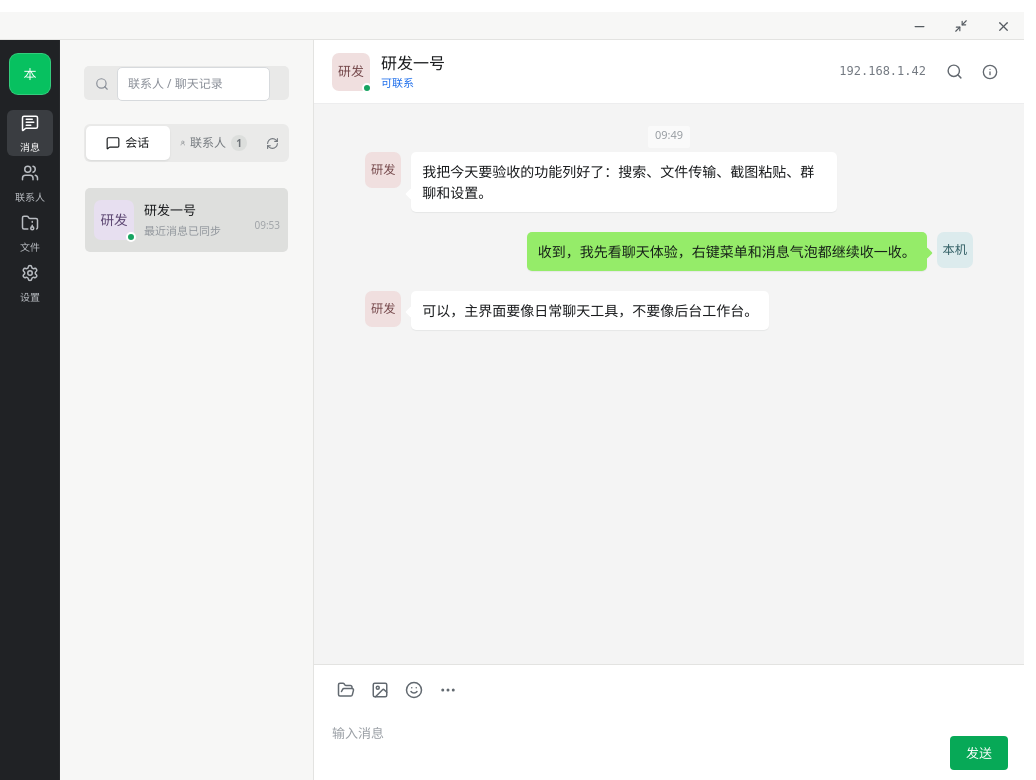
App › loads and focuses a search result outside the current message page
The width and height of the screenshot is (1036, 780).
Click the button named "搜索聊天记录" at [954, 72], box [938, 56, 970, 88]
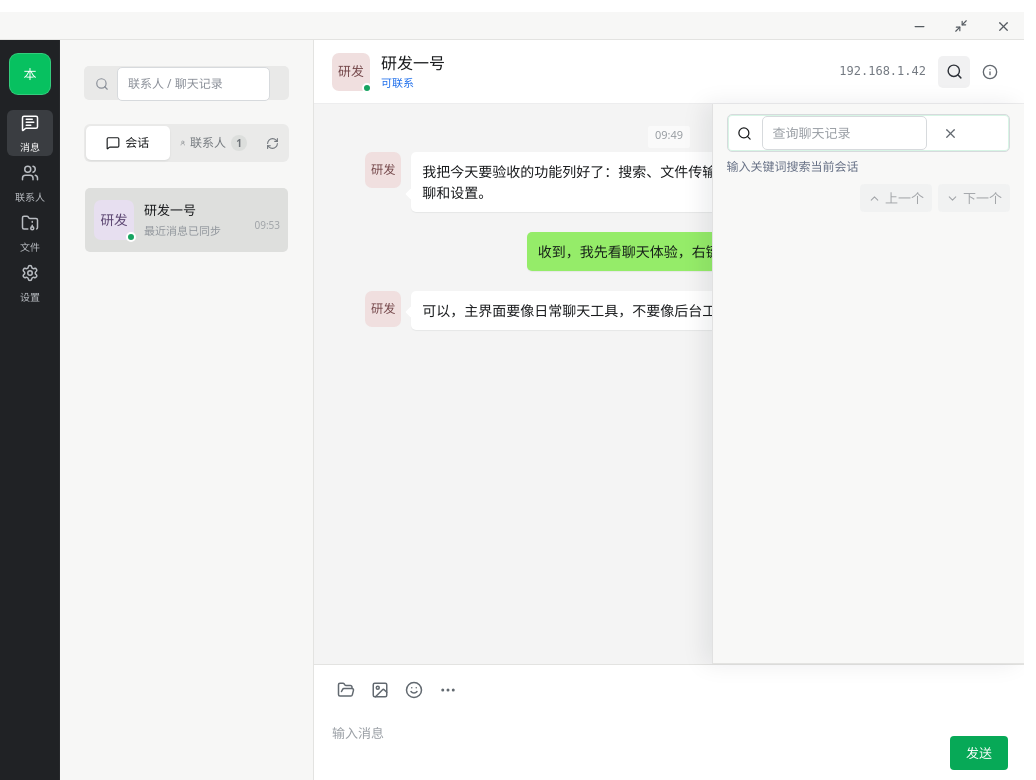
Type "historical" into the field with placeholder "查询聊天记录" at [844, 133], box [762, 116, 927, 150]
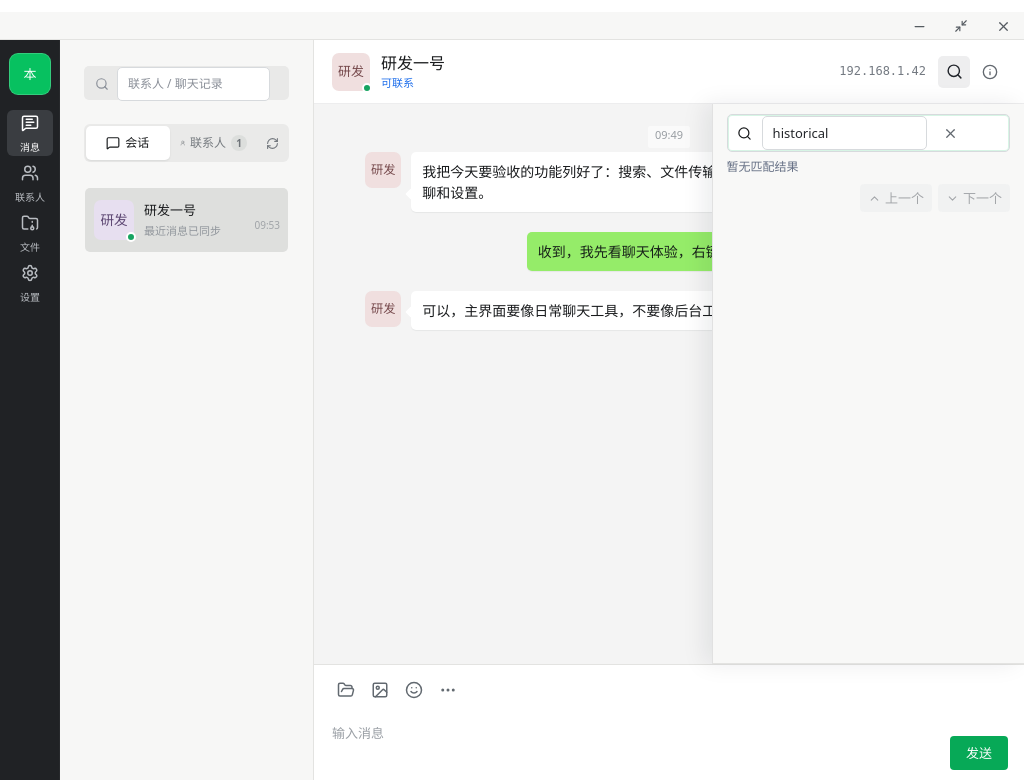
Submit the form with placeholder "查询聊天记录", box [727, 114, 1010, 152]
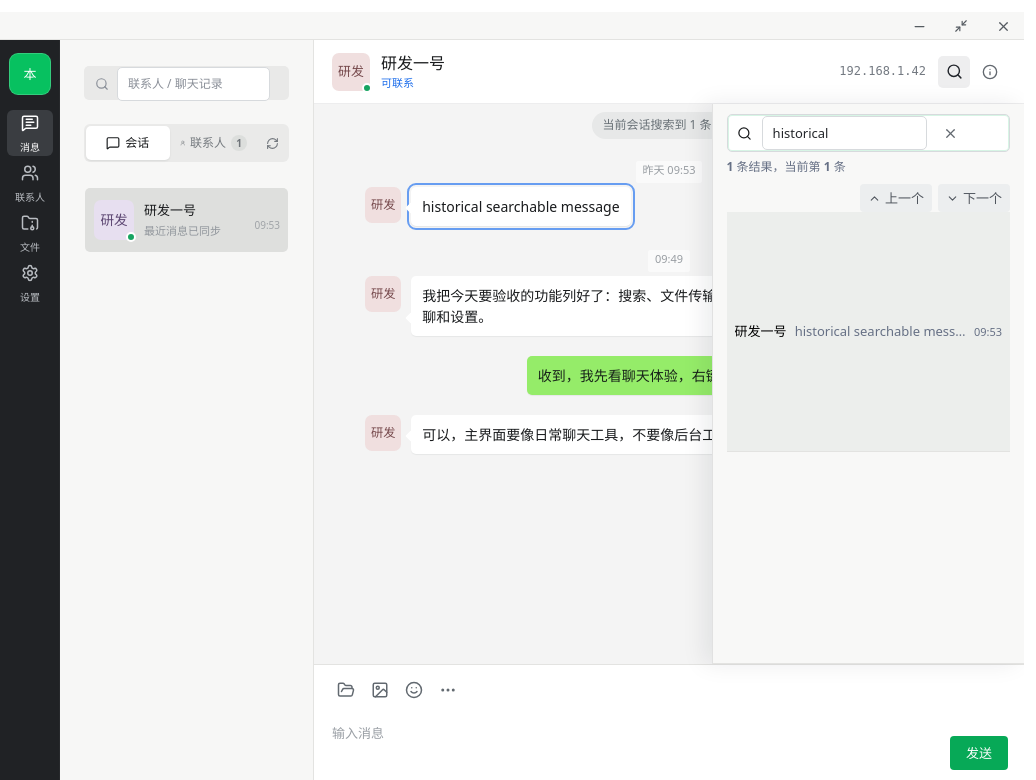
Result: the element with class "focused" reads "historical searchable message" at [422, 197, 620, 216]
